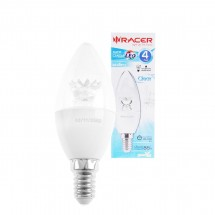Light_bulb: (52, 38, 117, 211)
